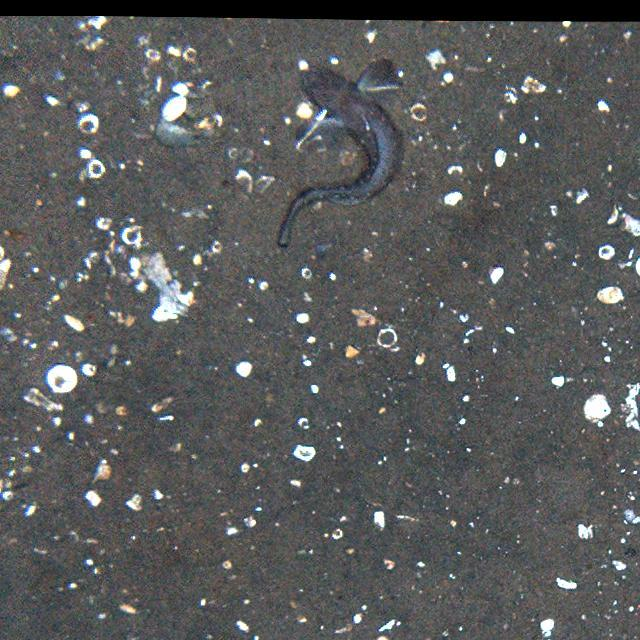roundfish: (279, 63, 409, 248)
